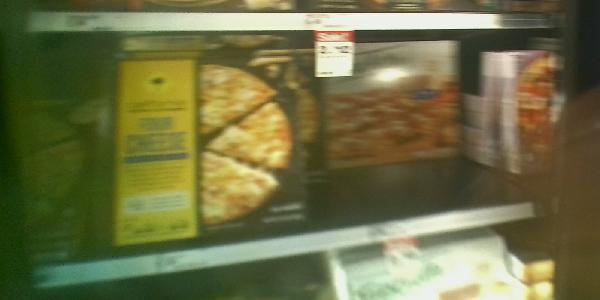pizza: (118, 55, 314, 243), (14, 58, 114, 263), (321, 42, 462, 165), (484, 51, 553, 182)
